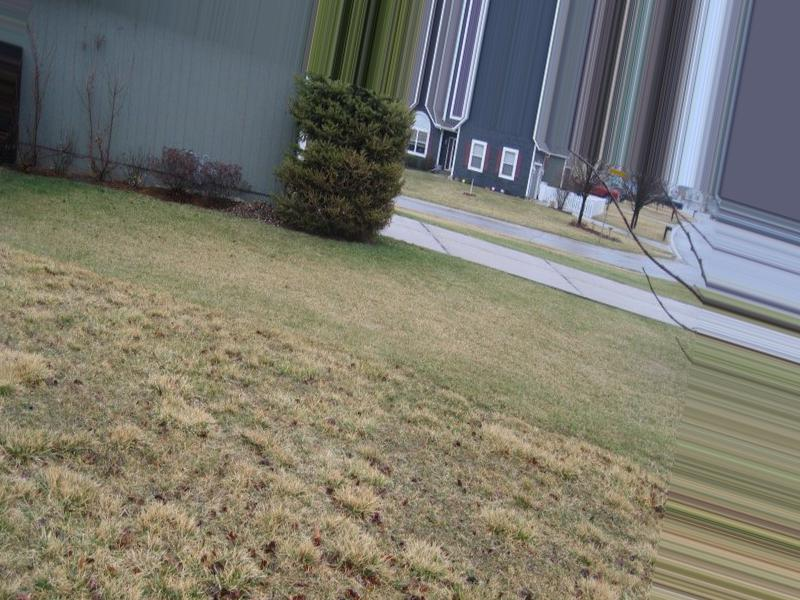patch: (54, 334, 272, 563), (346, 399, 510, 570), (554, 454, 630, 590), (289, 419, 322, 502)
